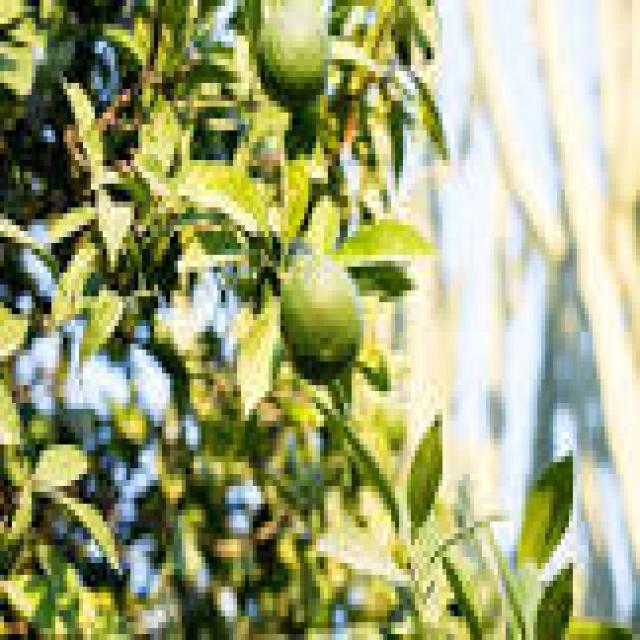orange: (280, 255, 360, 379)
